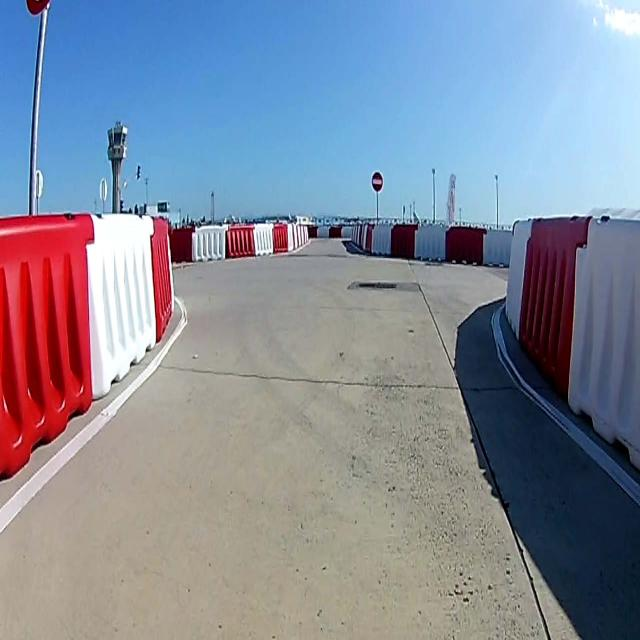girisyok: (371, 172, 383, 192)
